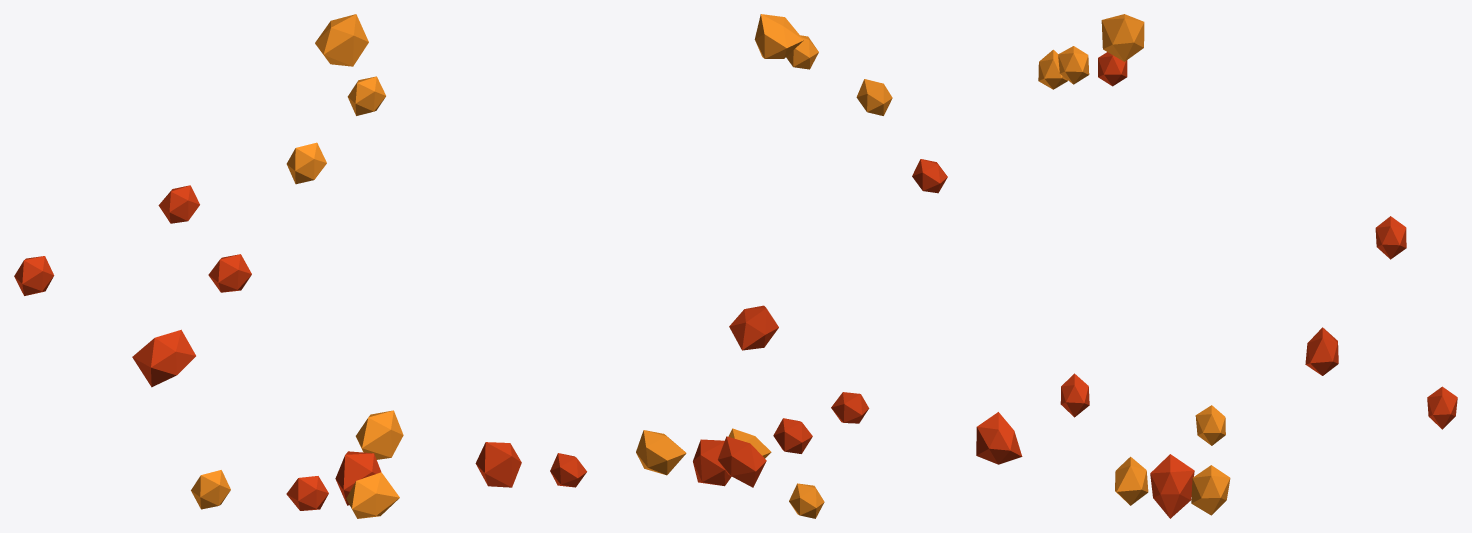
Rendered from frame_14.glb.
3 views of the same model, side by side, from view 1: azimuth 30°, elevation 25°; view 2: azimuth 150°, elevation 25°; view 3: azimuth 270°, elevation 25° (orthographic). The views are drawn at different scales.
Visible parts, largest first — view 1: effect_explosion_large_frame_14; view 2: effect_explosion_large_frame_14; view 3: effect_explosion_large_frame_14.
Boxes of the visible parts, x1,y1,x2,y2 form: effect_explosion_large_frame_14: (14, 14, 521, 518); effect_explosion_large_frame_14: (550, 14, 947, 518); effect_explosion_large_frame_14: (976, 14, 1457, 518).
Bounding box in the file's own units: 13.13 × 21.89 × 19.91.
